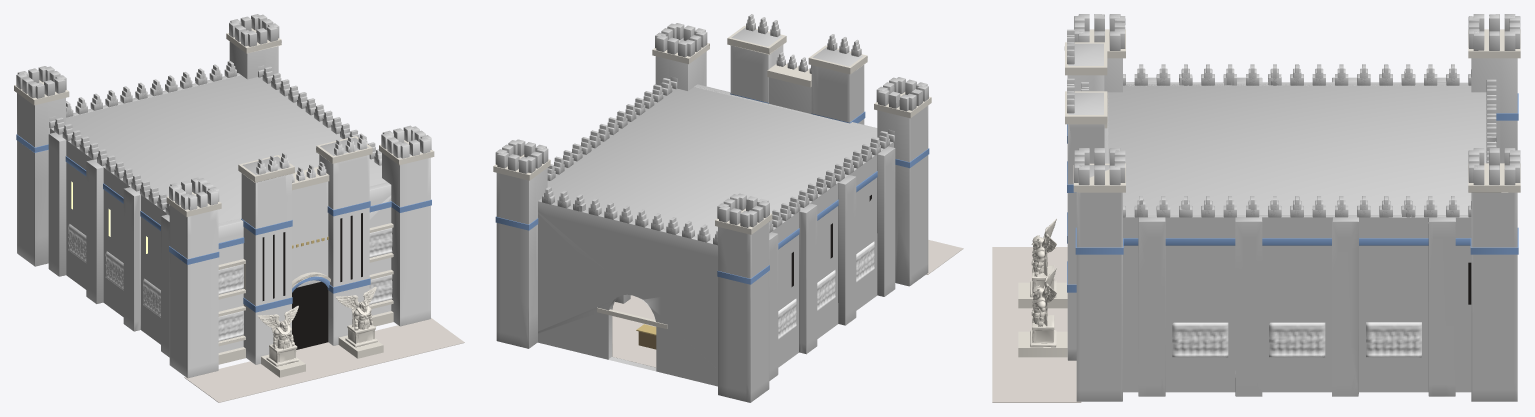
File: citadel-hotel.glb
3 views of the same model, side by side, from view 1: azimuth 30°, elevation 25°; view 2: azimuth 150°, elevation 25°; view 3: azimuth 270°, elevation 25° (orthographic). The views are drawn at different scales.
Parts seen in each view (by area): view 1: hotel_wall, hotel_floor, hotel_trim, merged_hotel_relief_citadel-relief, hotel_shadow, hotel_glaze, merged_hotel_trim; view 2: hotel_wall, hotel_trim, hotel_floor, merged_hotel_relief_citadel-relief, hotel_glaze; view 3: hotel_wall, hotel_floor, merged_hotel_relief_citadel-relief, hotel_trim, hotel_glaze, merged_hotel_trim.
Boxes of the visible parts, x1,y1,x2,y2 form: hotel_wall: [16, 14, 431, 378]; hotel_floor: [184, 318, 464, 402]; hotel_trim: [14, 28, 434, 377]; merged_hotel_relief_citadel-relief: [68, 223, 392, 341]; hotel_shadow: [262, 213, 362, 349]; hotel_glaze: [16, 134, 431, 312]; merged_hotel_trim: [257, 286, 377, 366]; hotel_wall: [495, 14, 928, 402]; hotel_trim: [493, 25, 931, 328]; hotel_floor: [612, 240, 963, 367]; merged_hotel_relief_citadel-relief: [778, 241, 874, 339]; hotel_glaze: [495, 93, 929, 284]; hotel_wall: [1067, 14, 1520, 401]; hotel_floor: [992, 247, 1081, 402]; merged_hotel_relief_citadel-relief: [1172, 322, 1421, 357]; hotel_trim: [1018, 29, 1520, 357]; hotel_glaze: [1067, 93, 1518, 292]; merged_hotel_trim: [1030, 218, 1056, 347].
Size of the model in its own units: 19.1 by 15.03 by 27.3.
